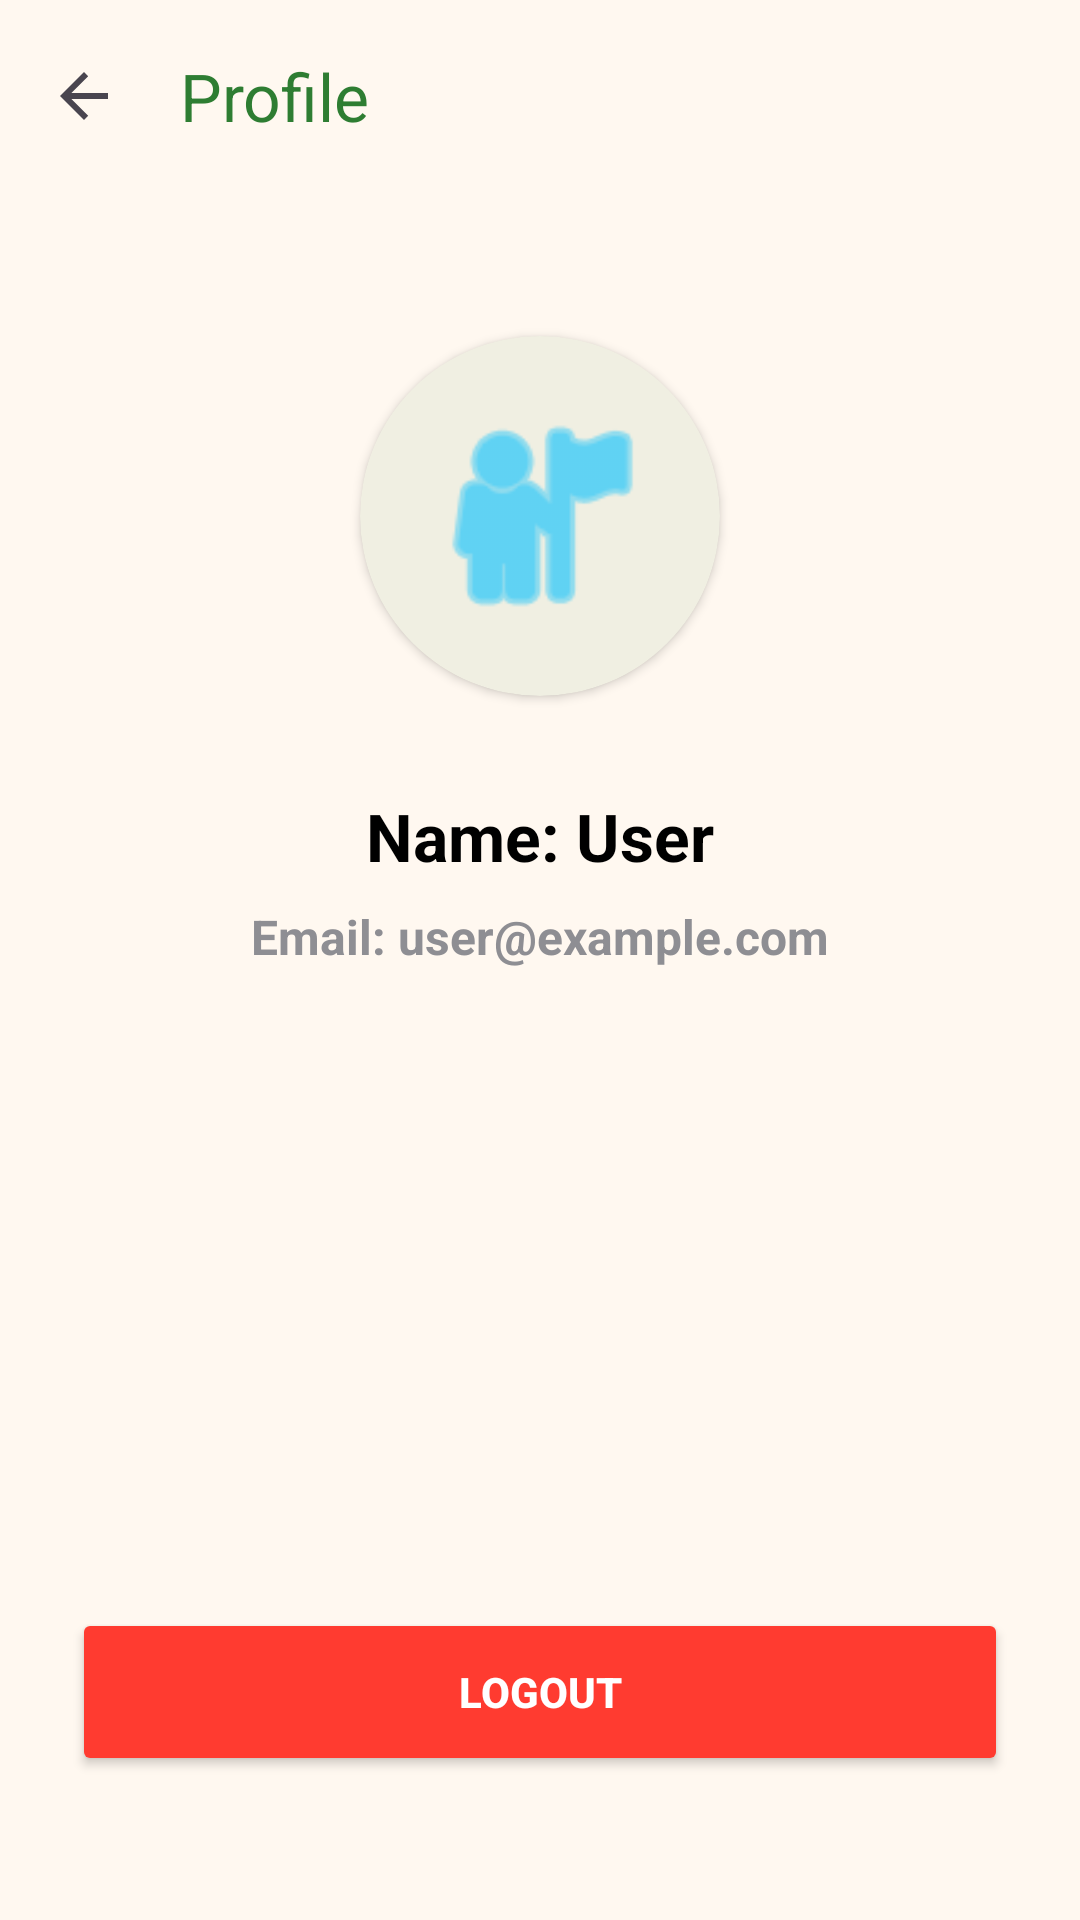

Point at icon controls on the screen. Image size 1080w x 1920h, points as point (x, y).
myplaces: point (540, 516)
